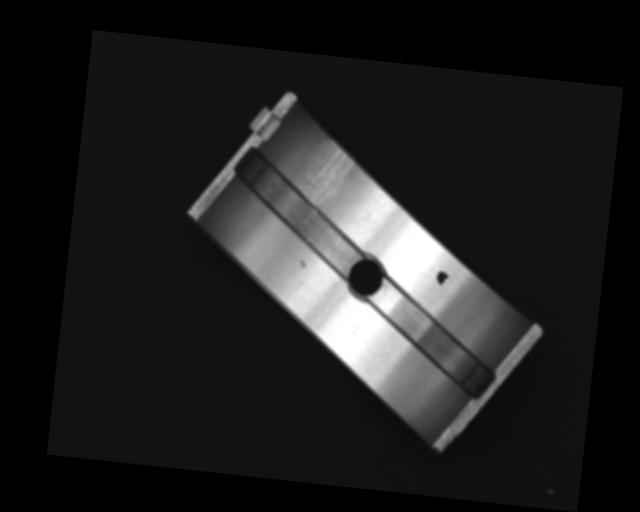blot: (434, 269, 449, 286)
bruise: (297, 259, 307, 268)
gap: (225, 145, 373, 274), (360, 279, 504, 400)
hole: (345, 255, 385, 301)
scratch: (298, 137, 356, 214)
